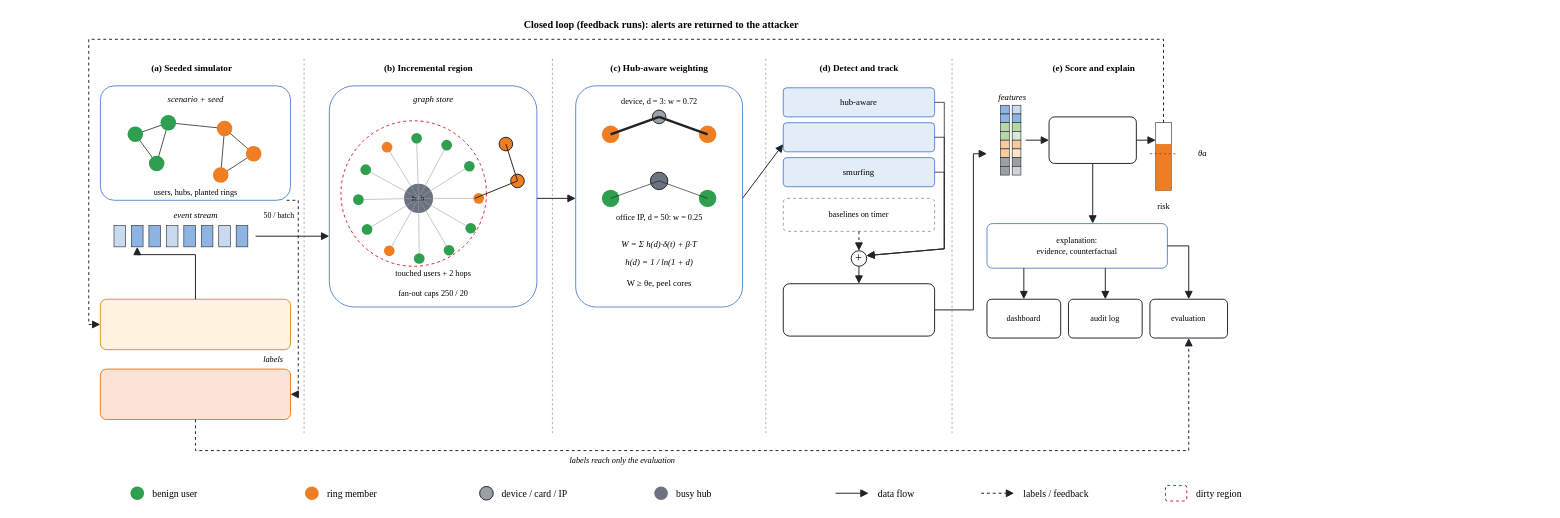
Image size: 1560x518. Some labels were removed from this diagram. Here are the shapes that lost their labels. From the top down, the box of each, then its label:
(782, 122, 935, 152): money cycle
(1048, 116, 1136, 163): calibrated scorer
(99, 298, 291, 350): adaptive attacker
(782, 283, 935, 336): ring tracker confirm 2 hits drop 3 misses
(99, 368, 291, 420): ground-truth ledger (hidden)
